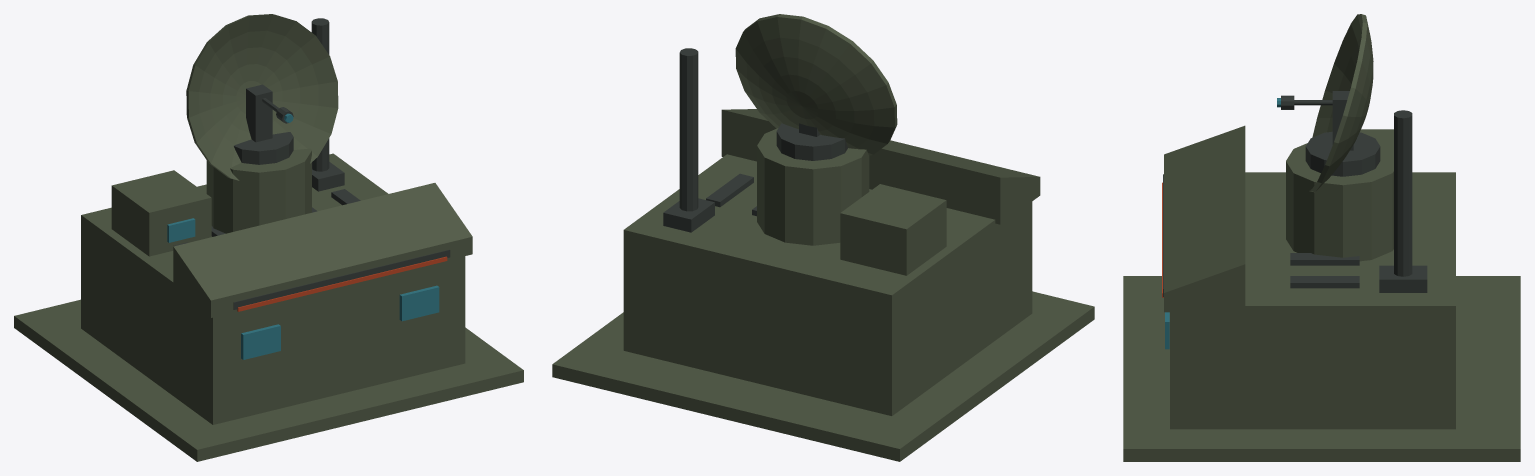
File: Bastion_CommunicationsCenter_Static.obj
The picture shows the model from 3 angles, left to right: view 1: azimuth 30°, elevation 25°; view 2: azimuth 150°, elevation 25°; view 3: azimuth 270°, elevation 25°; orthographic projection. The views are drawn at different scales.
Visible parts, largest first — view 1: Bastion_CommunicationsCenter_Static; view 2: Bastion_CommunicationsCenter_Static; view 3: Bastion_CommunicationsCenter_Static.
Boxes of the visible parts, x1,y1,x2,y2 form: Bastion_CommunicationsCenter_Static: (14,14,523,461); Bastion_CommunicationsCenter_Static: (552,14,1094,461); Bastion_CommunicationsCenter_Static: (1123,14,1520,461).
Bounding box in the file's own units: 6.8 × 6.47 × 6.6.
Materials: 1 (1 with a texture image).
